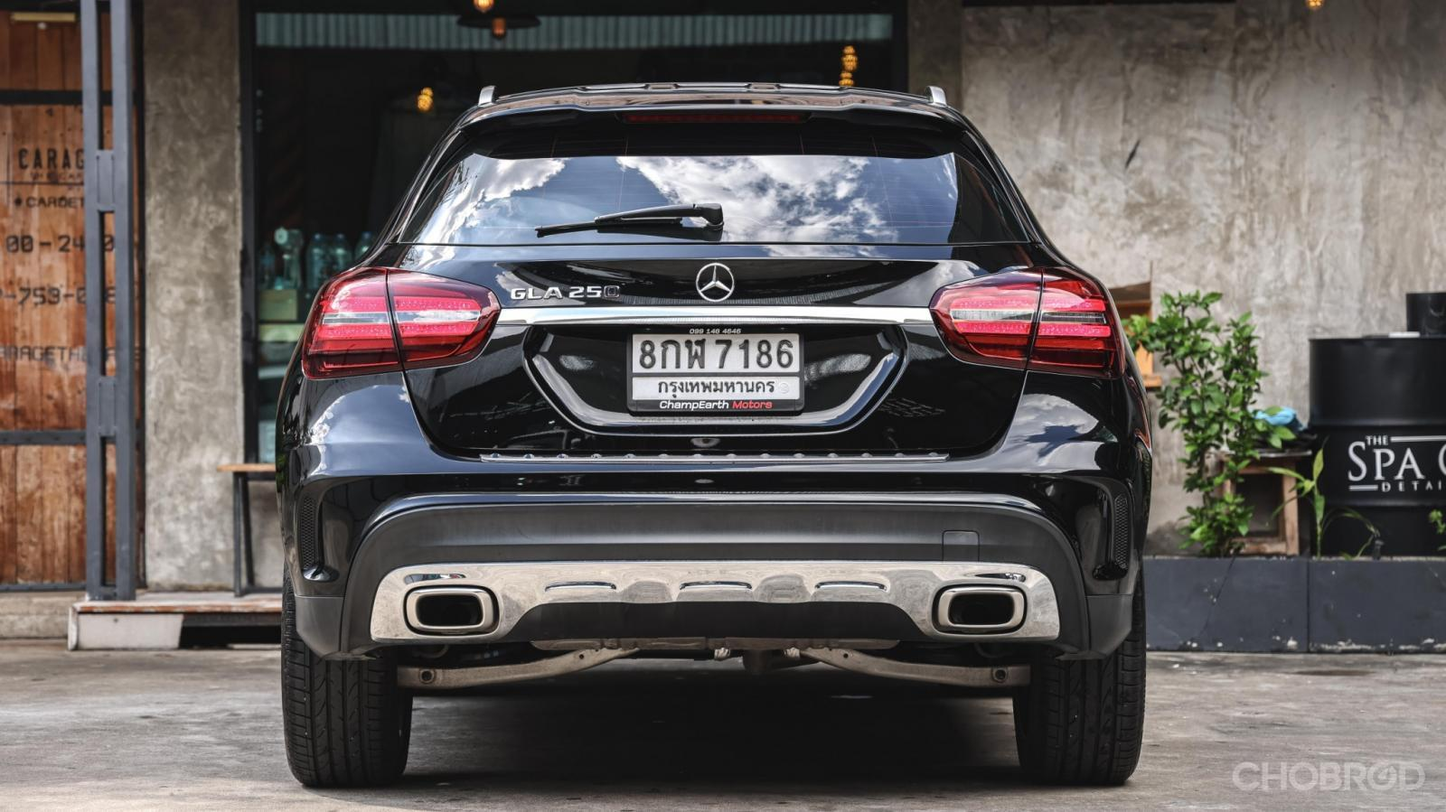license-plate: (624, 329, 804, 419)
